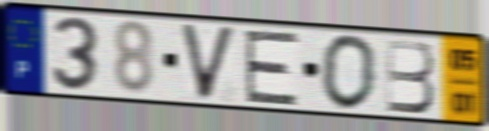3: (49, 14, 104, 93)
8: (110, 18, 156, 99)
B: (383, 37, 438, 116)
E: (241, 28, 301, 107)
O: (318, 32, 379, 113)
V: (176, 21, 239, 104)
